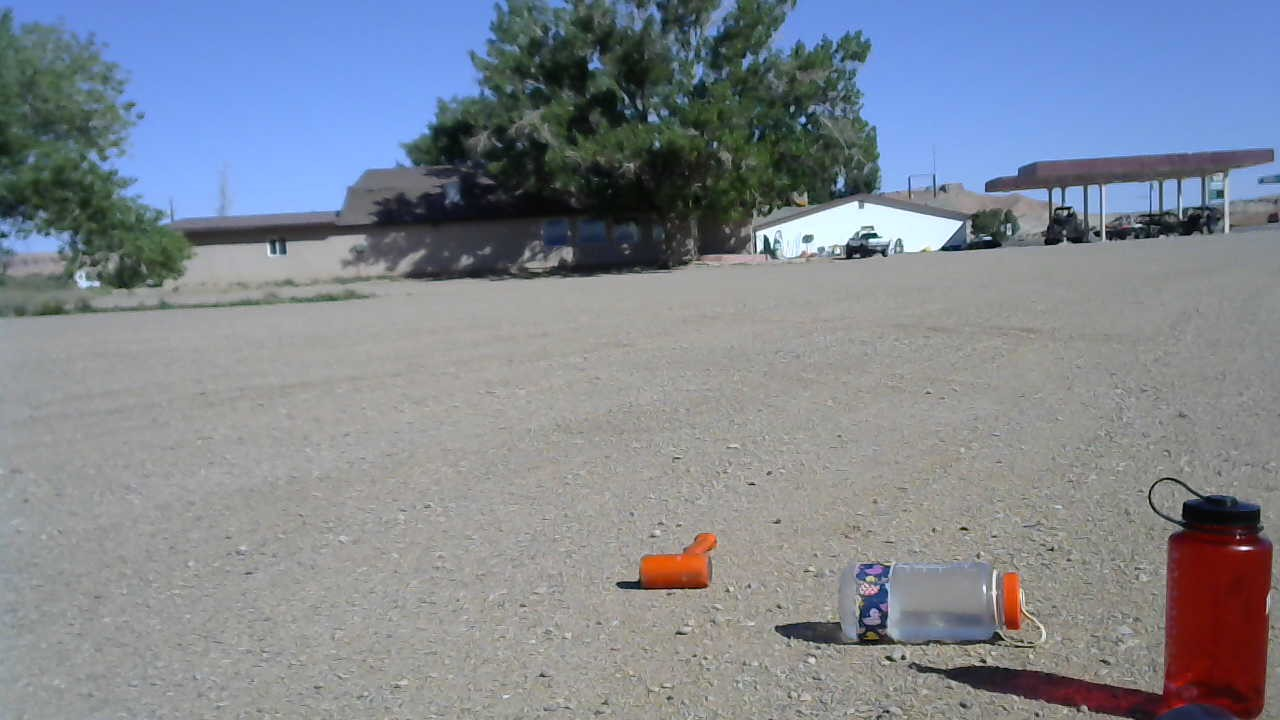bottle: (1144, 469, 1279, 720), (834, 552, 1053, 654)
hammer: (635, 532, 727, 588)
